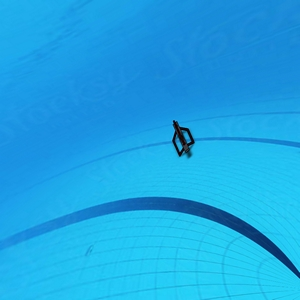submarine: (171, 118, 196, 161)
